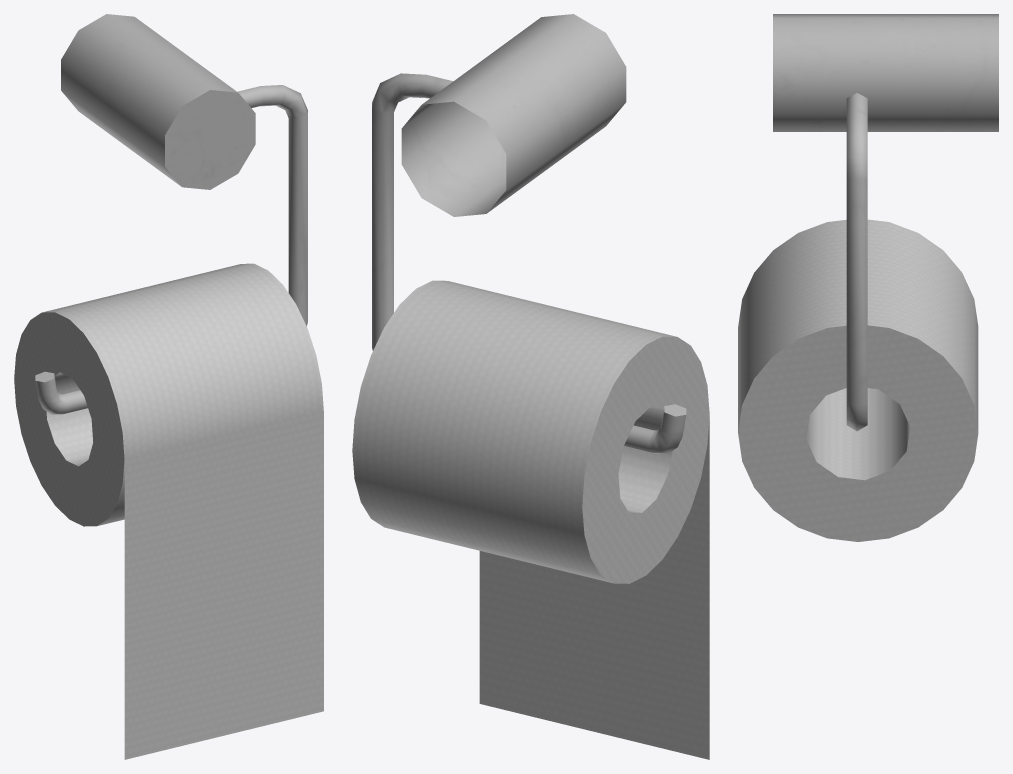
Rendered from ToiletPaperHolder.fbx.
3 renders of one model, left to right at view 1: azimuth 30°, elevation 25°; view 2: azimuth 150°, elevation 25°; view 3: azimuth 270°, elevation 25°, orthographic. The views are drawn at different scales.
Visible parts, largest first — view 1: ToiletPaperHolder; view 2: ToiletPaperHolder; view 3: ToiletPaperHolder.
Part boxes in pixels (box(x1,y1,x2,y2)): ToiletPaperHolder: box(14, 14, 323, 759); ToiletPaperHolder: box(352, 14, 709, 759); ToiletPaperHolder: box(738, 14, 998, 541).
Bounding box in the file's own units: 14.25 × 31.65 × 10.85.
